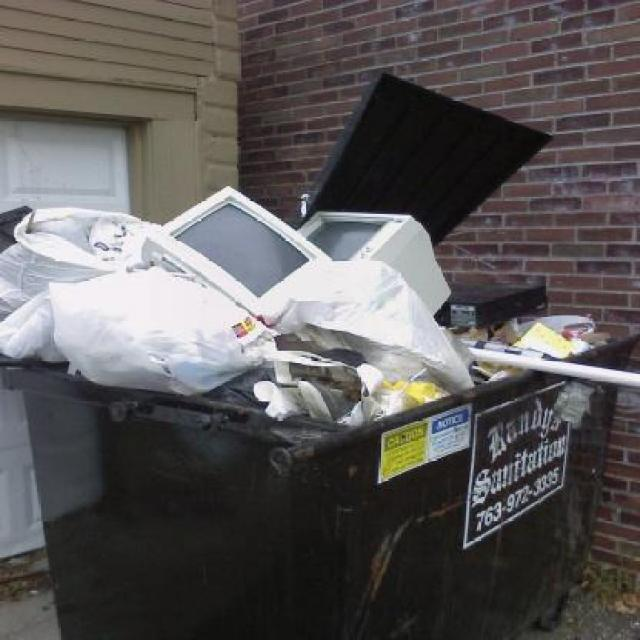plastic bag: (46, 263, 283, 397), (283, 252, 475, 396), (0, 205, 168, 323)
